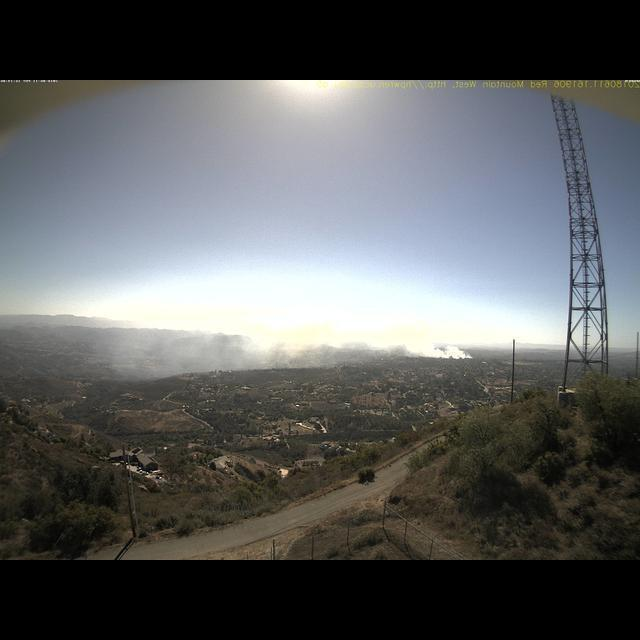Smoke: (175, 321, 476, 376)
